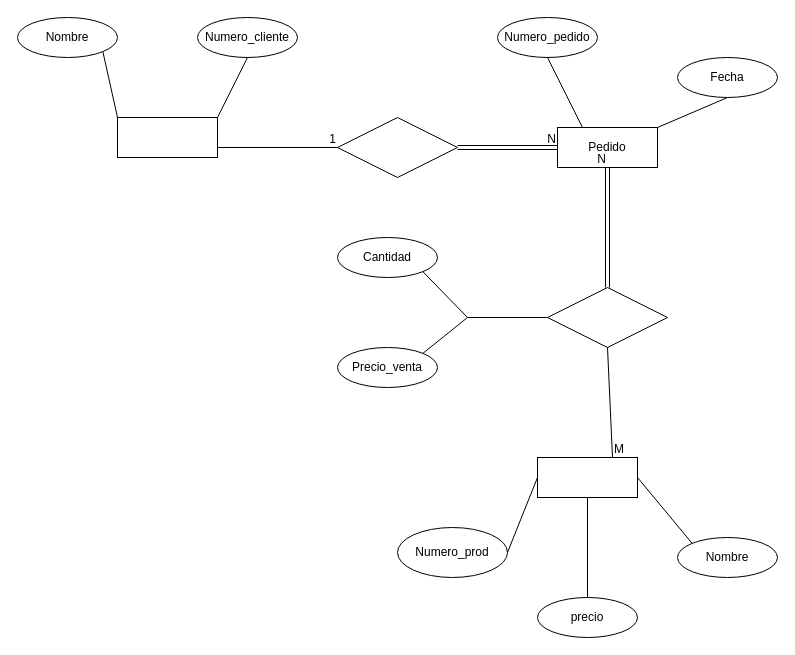
The diagram is 795 pixels wide and 655 high, and some of its shapes have lost their labels. The centre of each missing label's shape, as x and y in pixels:
Cliente: point (167, 137)
Detalle pedido: point (607, 317)
Producto: point (587, 477)
Realiza: point (397, 147)
